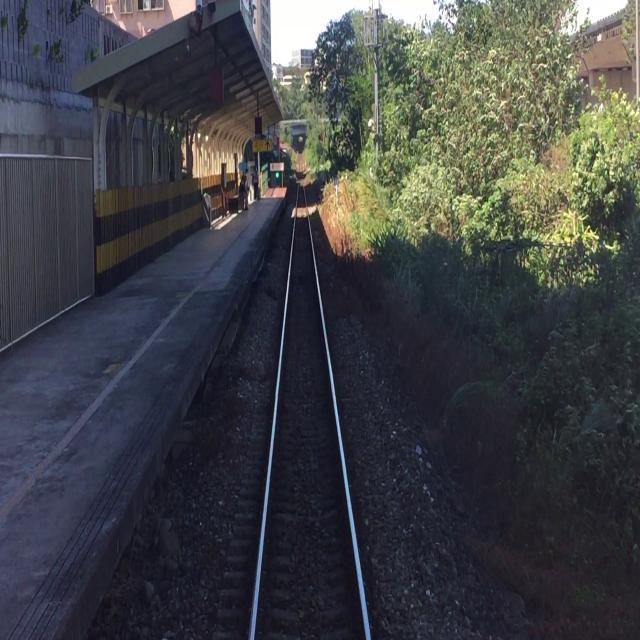track: (245, 172, 379, 640)
